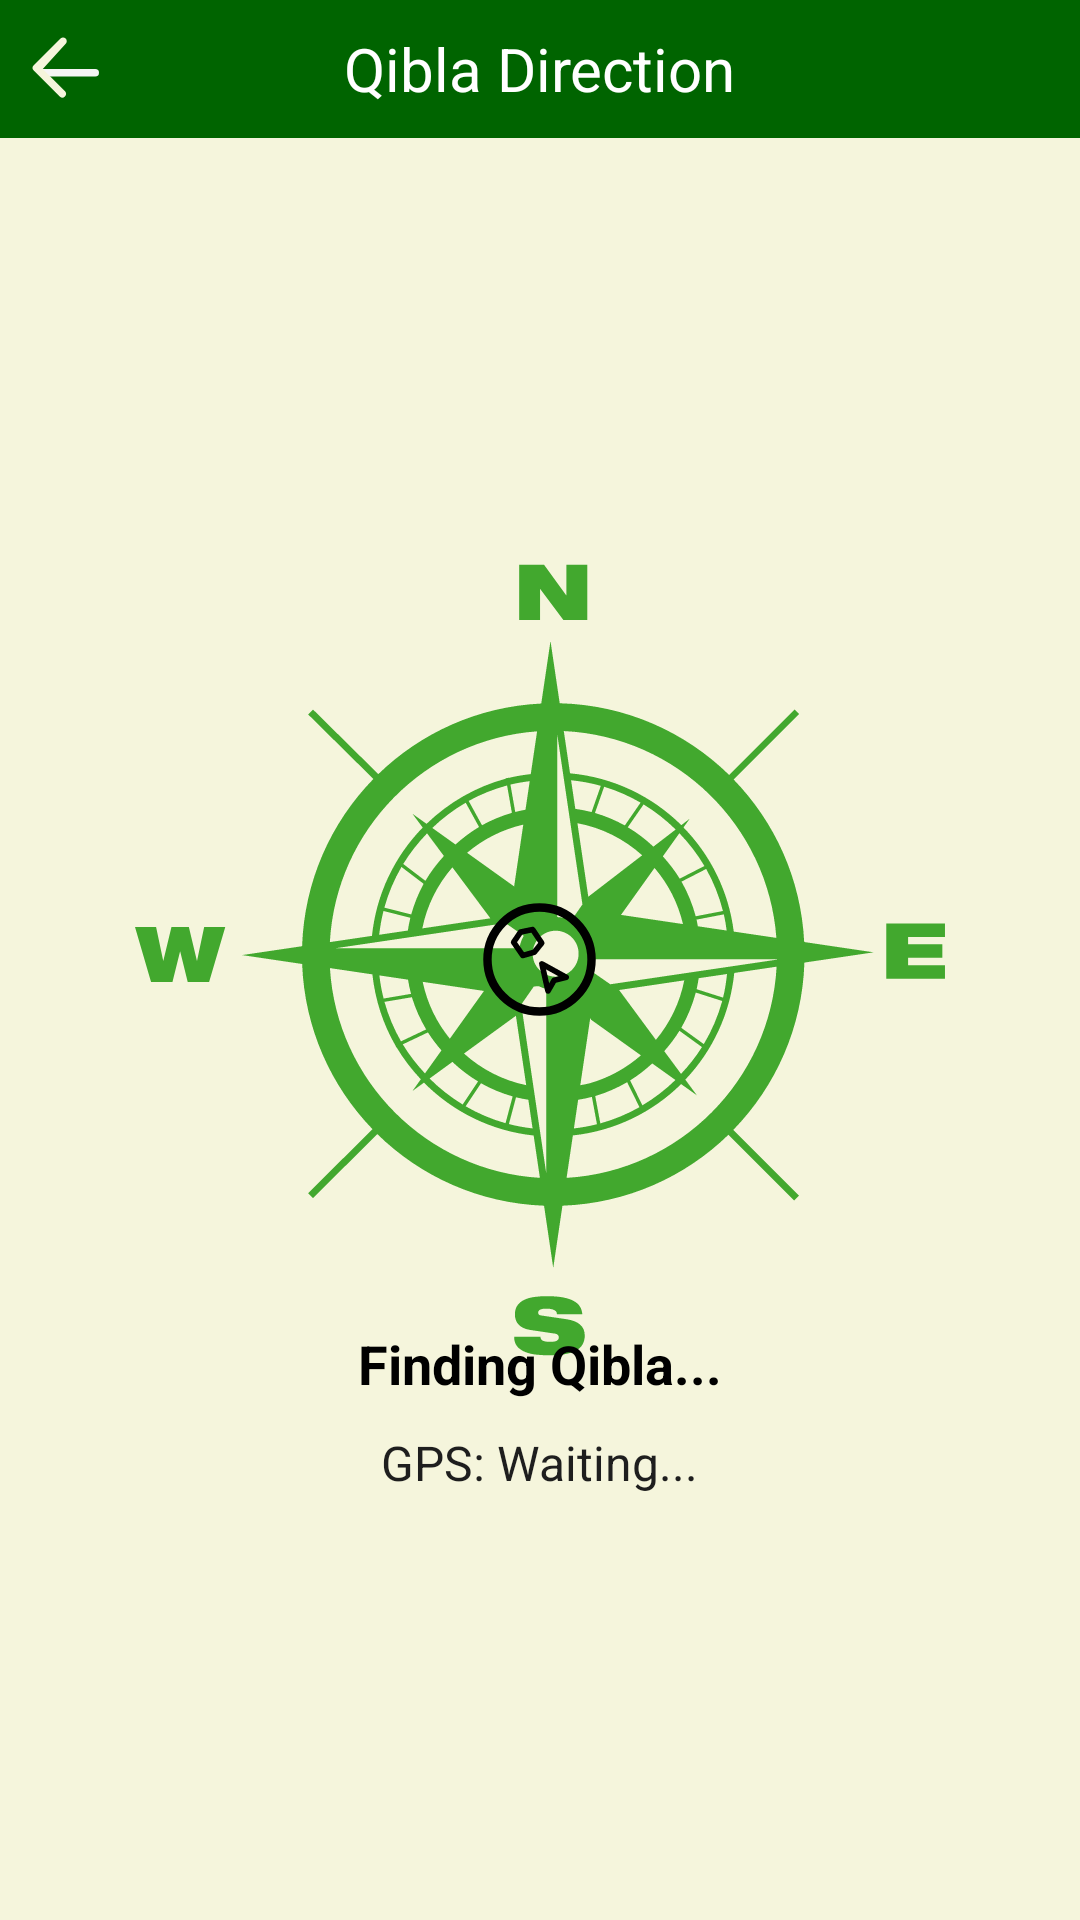

Icons on this 1080x1920 Android screen, each with the point to tap as (x=x, y=y):
Back: (x=65, y=67)
qibla direction: (x=539, y=959)
